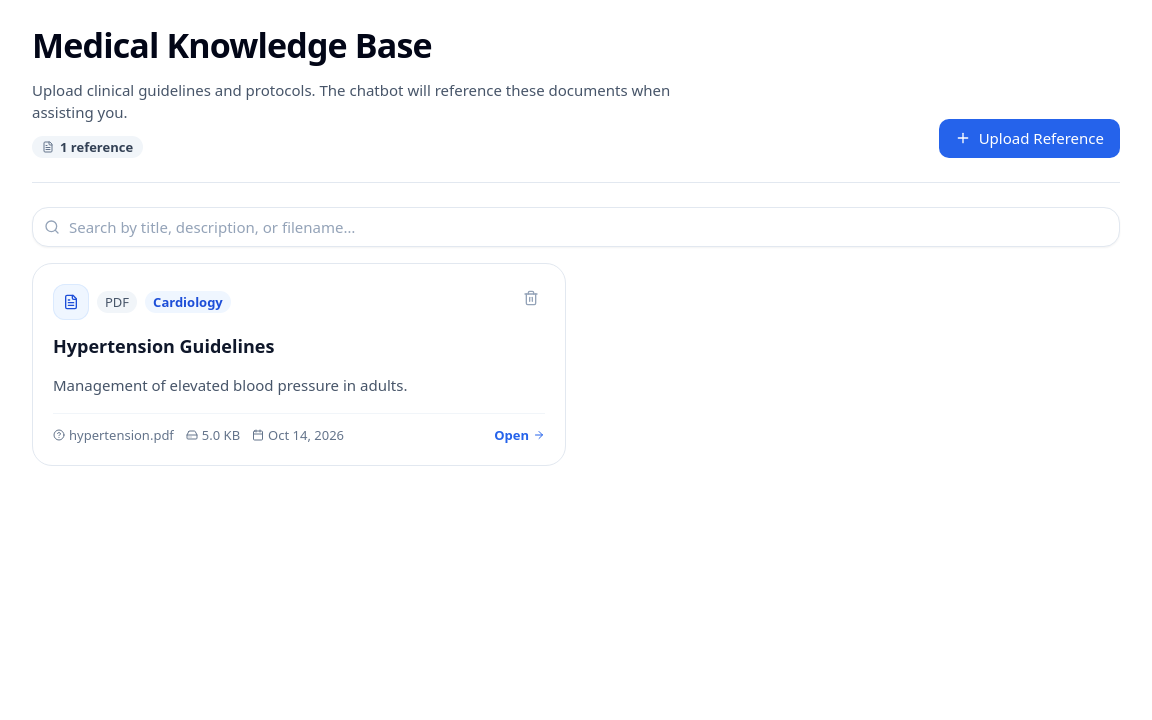
Test case: KnowledgeBasePage › falls back to a generic removal error for other failures
This screenshot has width=1152, height=720.
Click the button named "Remove Hypertension Guidelines" at (531, 298), box [517,284,545,312]
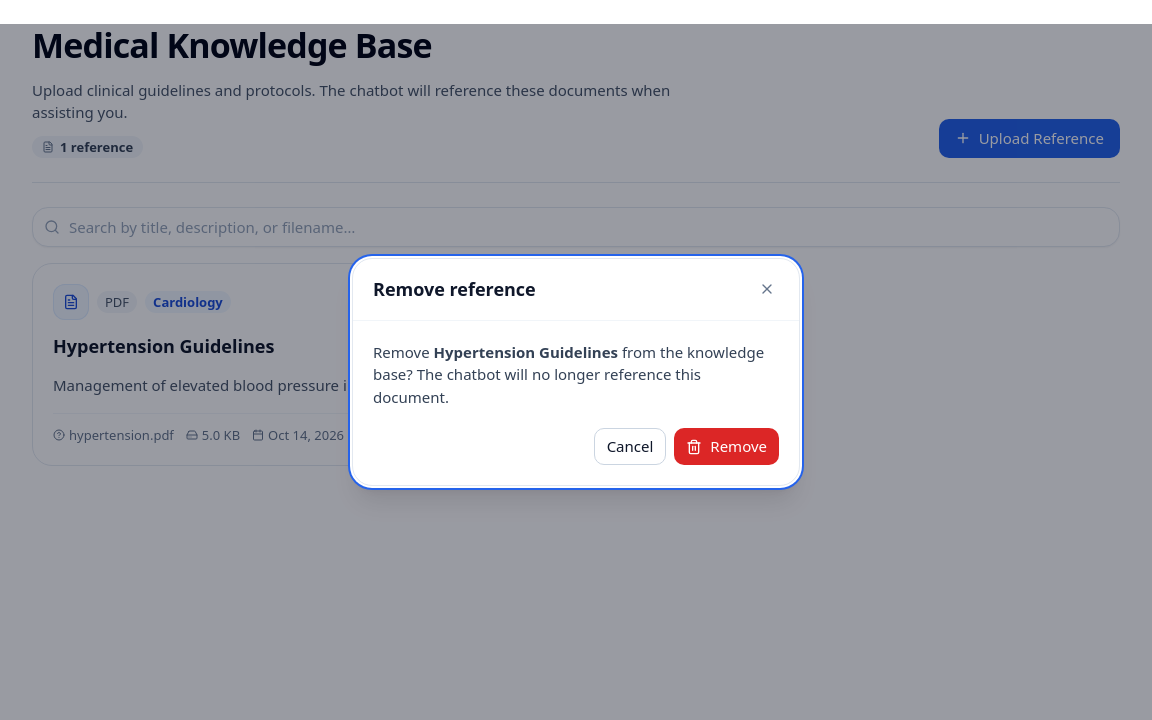
Click the button "Remove" at (727, 447), box [674,428,779,465]
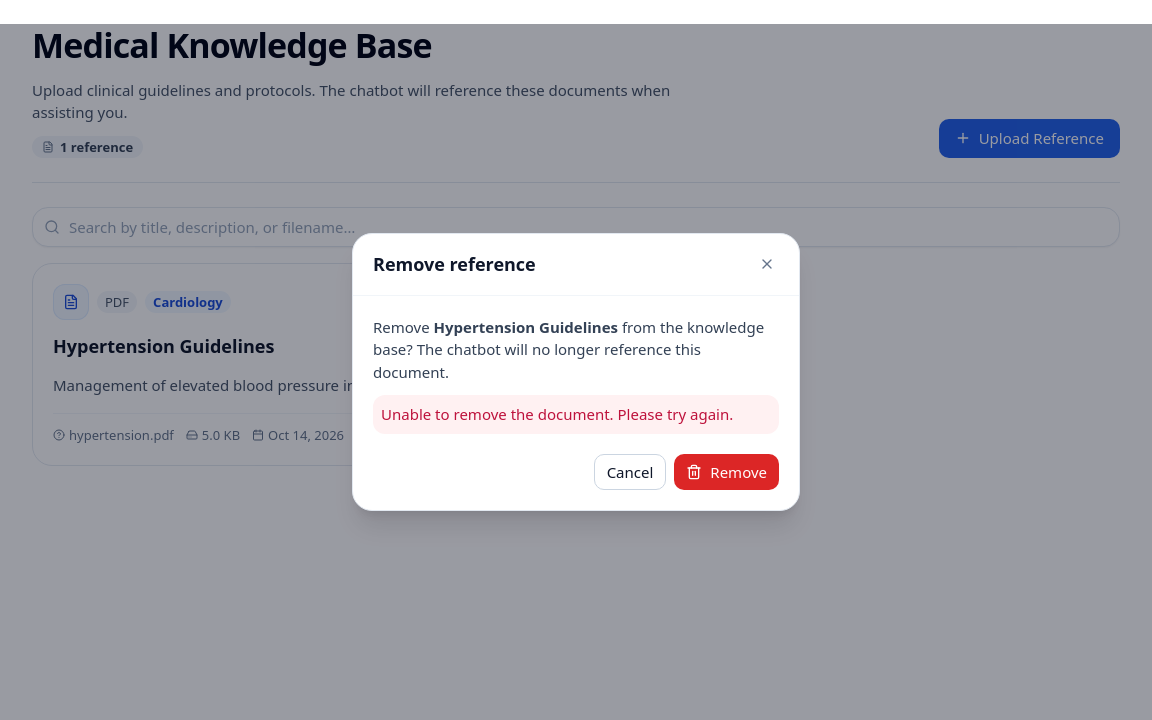
Expected: the text "Unable to remove the document. Please try again." is shown, [373,395,779,434]
